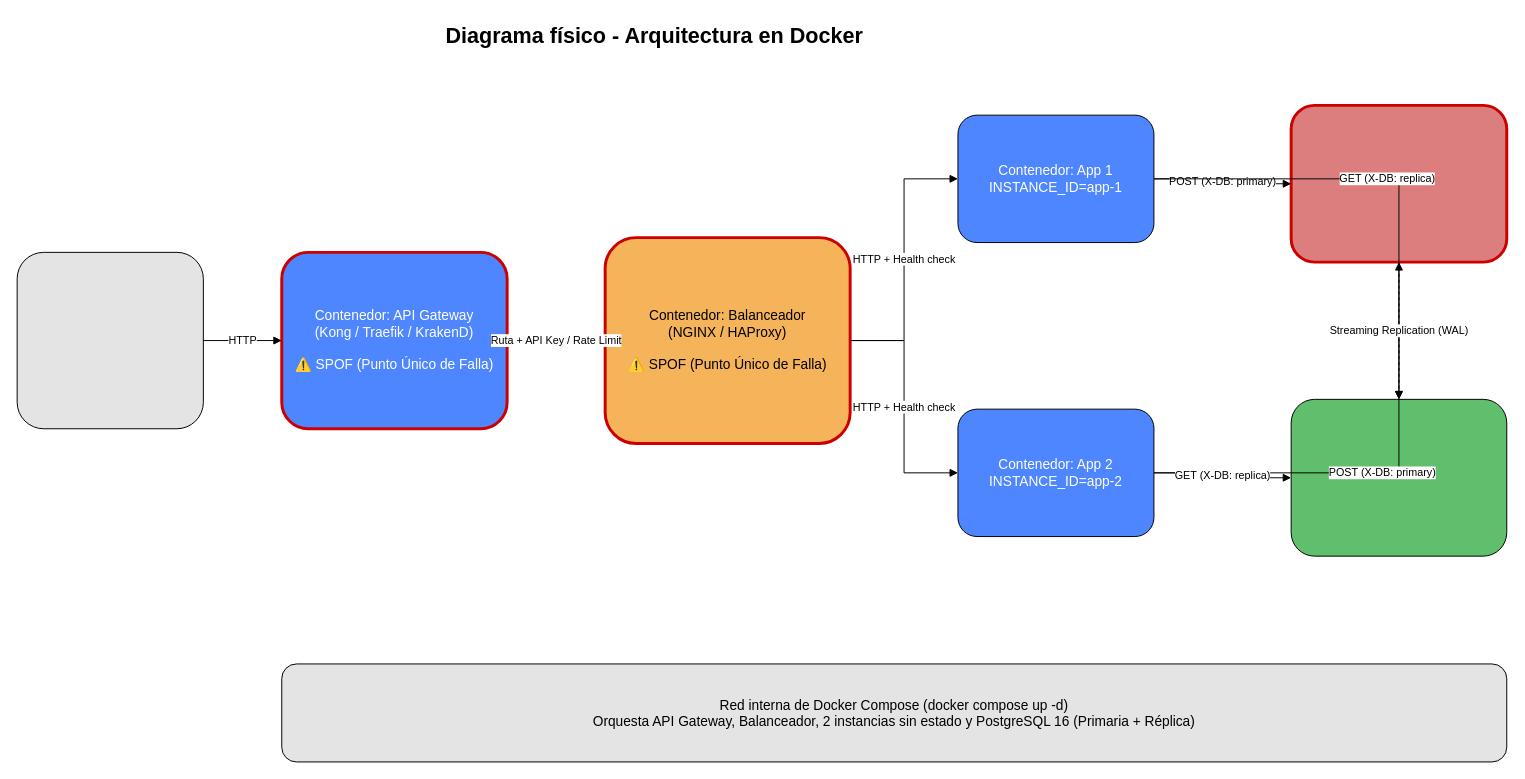
Image size: 1525x779. Some labels were removed from this diagram. The centre of each missing label's shape, as x and y in pixels:
"Clientes Web / Móvil / curl" goes at [109,340].
"Contenedor: PostgreSQL 16 Primaria (DB_PRIMARY_URL) ⚠️ SPOF de Escritura" goes at [1398,183].
"Contenedor: PostgreSQL 16 Réplica (DB_REPLICA_URL)" goes at [1398,477].
